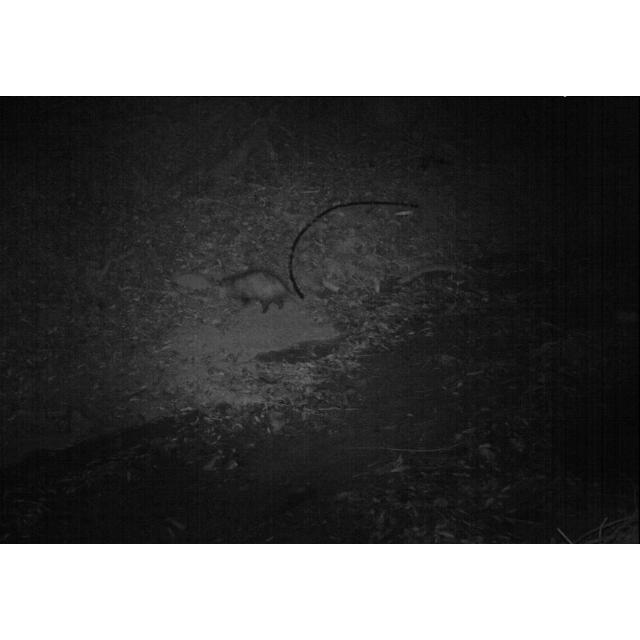animals: (213, 267, 291, 313)
